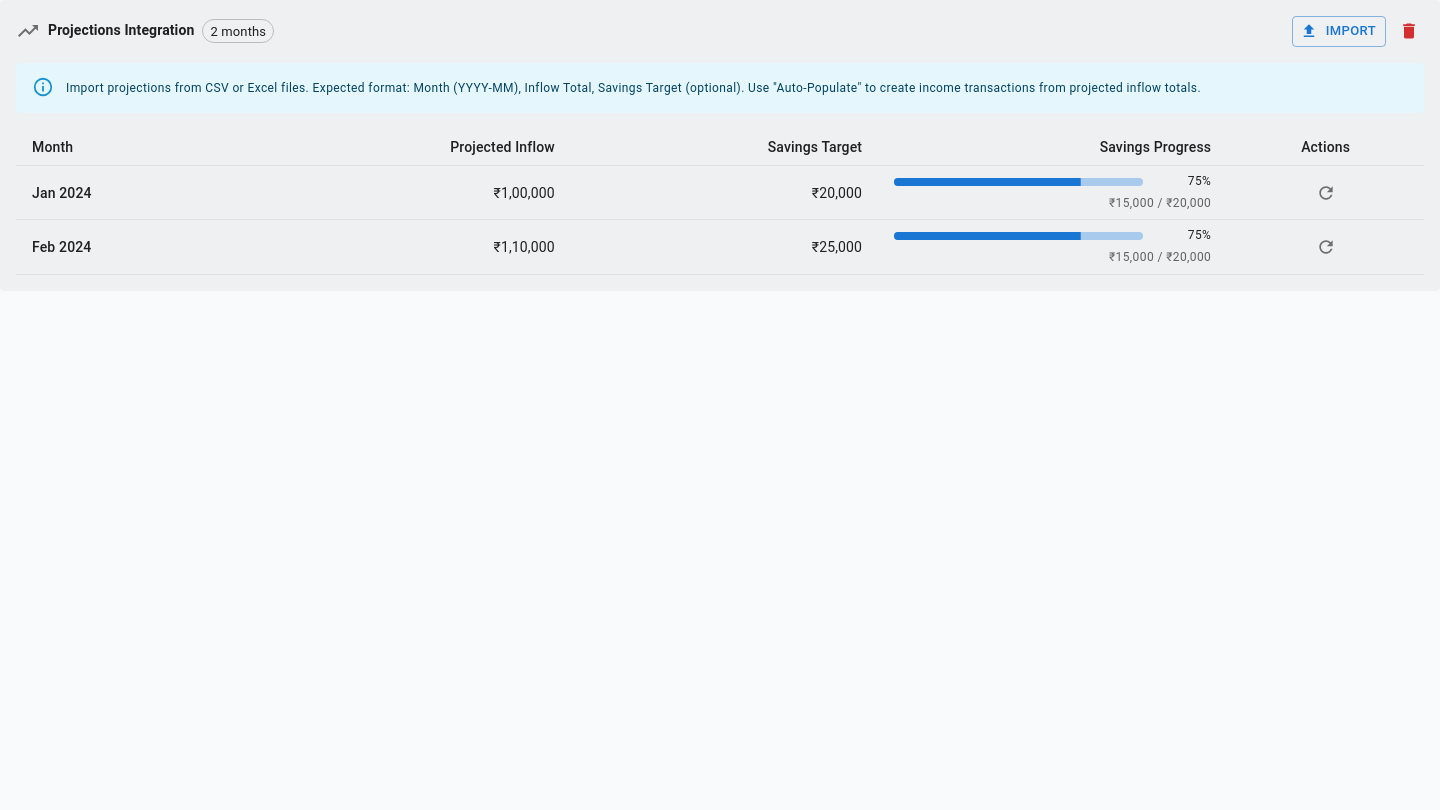
Test: ProjectionsIntegration › CSV Import › should import CSV file successfully
This screenshot has width=1440, height=810.
Click the button "Import": x=1339, y=31 [1292,16,1386,47]
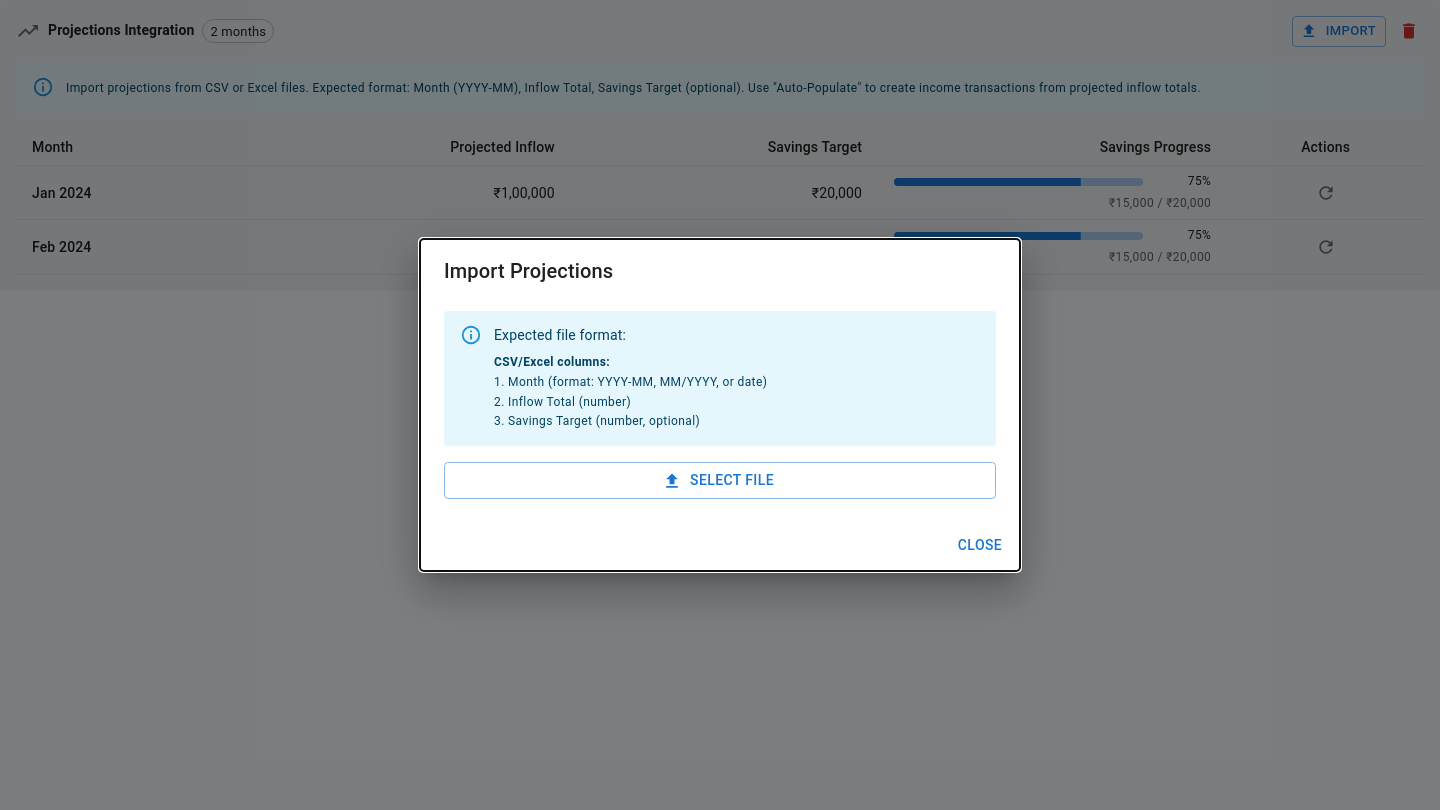
Expected: the element that starts with "Expected file format:" is shown, [444,311,996,499]
